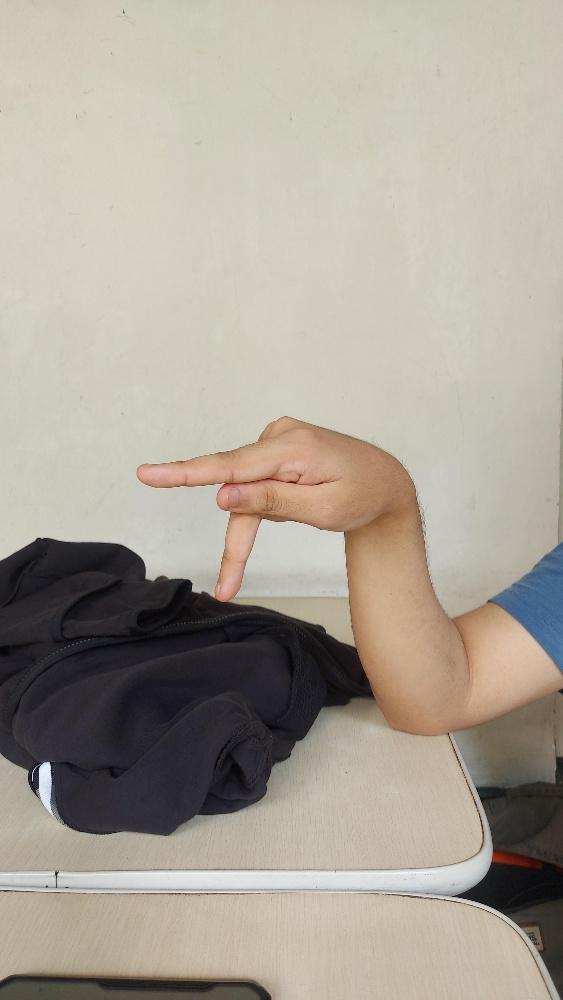p: (135, 415, 403, 601)
